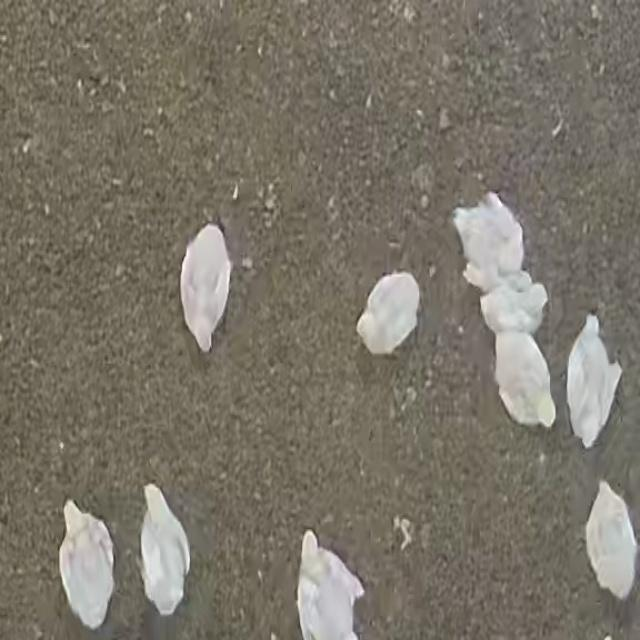chicken: (57, 501, 116, 632), (565, 314, 621, 448), (296, 533, 365, 639), (138, 483, 192, 617), (178, 221, 230, 355), (452, 192, 524, 288), (583, 479, 636, 605), (351, 267, 426, 356), (492, 332, 556, 429), (474, 278, 556, 333)
